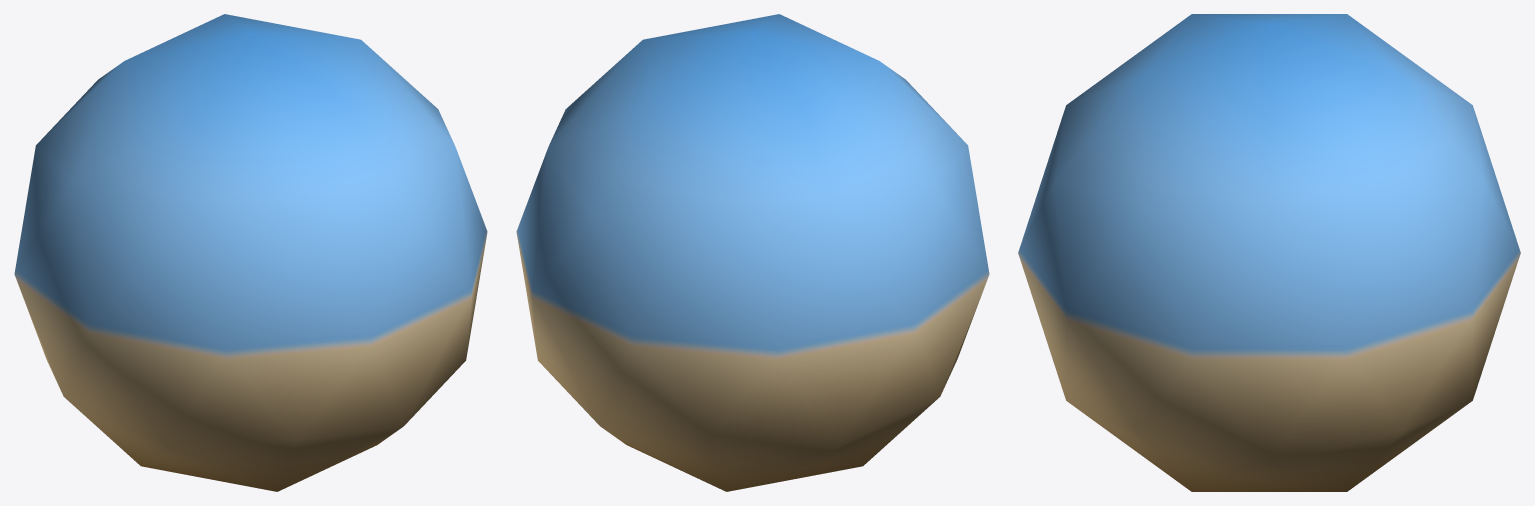
3 views of the same model, side by side, from view 1: azimuth 30°, elevation 25°; view 2: azimuth 150°, elevation 25°; view 3: azimuth 270°, elevation 25° (orthographic). The views are drawn at different scales.
Parts seen in each view (by area): view 1: Courtyard; view 2: Courtyard; view 3: Courtyard.
Part boxes in pixels (bbox=[...]): Courtyard: bbox=[14, 14, 487, 491]; Courtyard: bbox=[516, 14, 989, 491]; Courtyard: bbox=[1018, 14, 1520, 491].
Size of the model in its own units: 4793 by 5040 by 5040.
